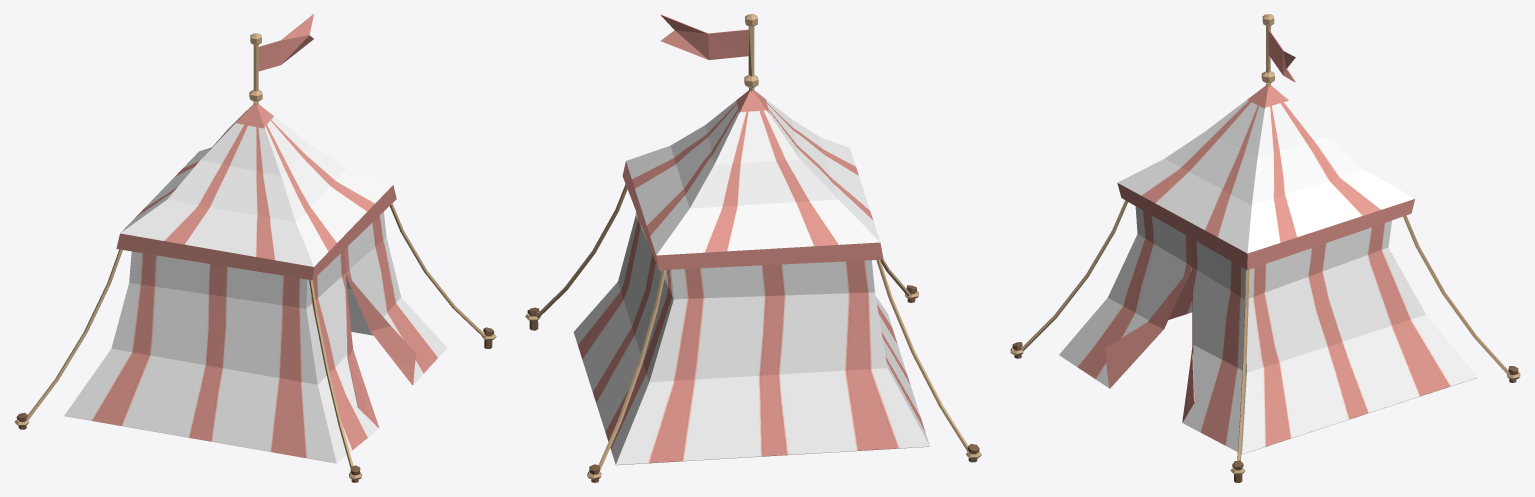
Rendered from carpita rosada.fbx.
3 renders of one model, left to right at view 1: azimuth 30°, elevation 25°; view 2: azimuth 150°, elevation 25°; view 3: azimuth 270°, elevation 25°, orthographic. The views are drawn at different scales.
Visible parts, largest first — view 1: tent_green; view 2: tent_green; view 3: tent_green.
Boxes of the visible parts, x1,y1,x2,y2 form: tent_green: (14, 14, 496, 482); tent_green: (525, 14, 981, 482); tent_green: (1010, 14, 1520, 482).
Size of the model in its own units: 703 by 531 by 683.
Materials: 1 (1 with a texture image).
